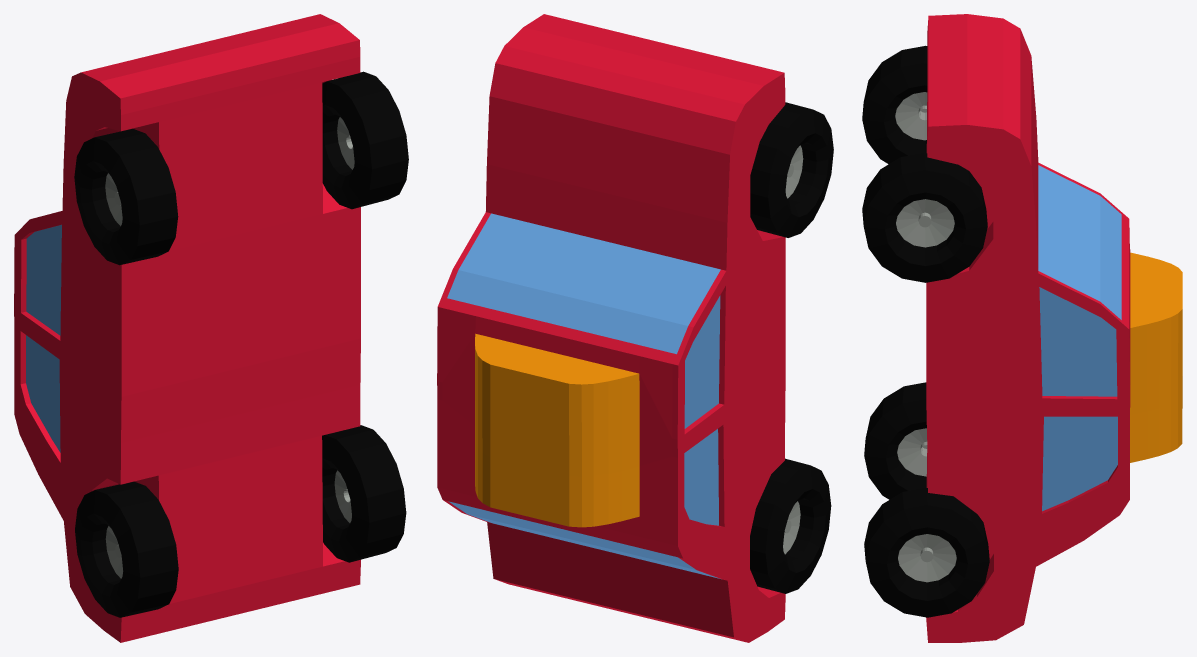
The model's file is pizzacar.fbx.
3 renders of one model, left to right at view 1: azimuth 30°, elevation 25°; view 2: azimuth 150°, elevation 25°; view 3: azimuth 270°, elevation 25°, orthographic. The views are drawn at different scales.
Parts seen in each view (by area): view 1: Plane; view 2: Plane; view 3: Plane.
Part boxes in pixels (x1,y1,x2,y2): Plane: [14, 14, 408, 642]; Plane: [437, 14, 833, 642]; Plane: [862, 14, 1182, 642].
Bounding box in the file's own units: 221 × 411 × 230.
